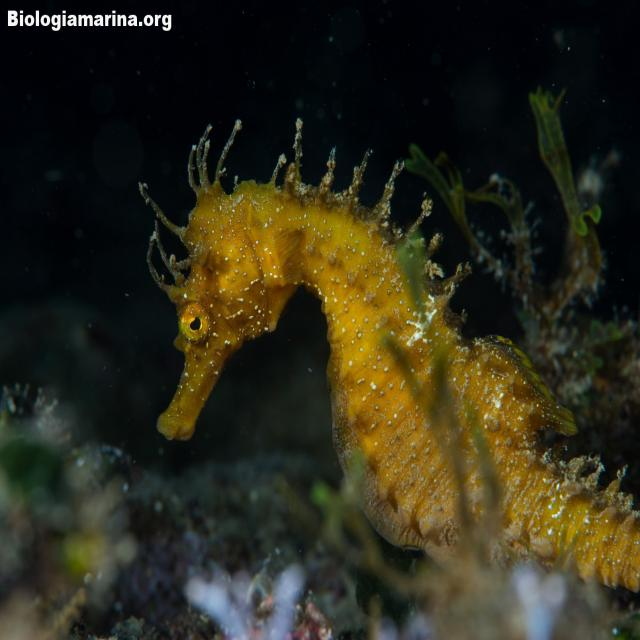Guttu: (154, 172, 300, 453)
